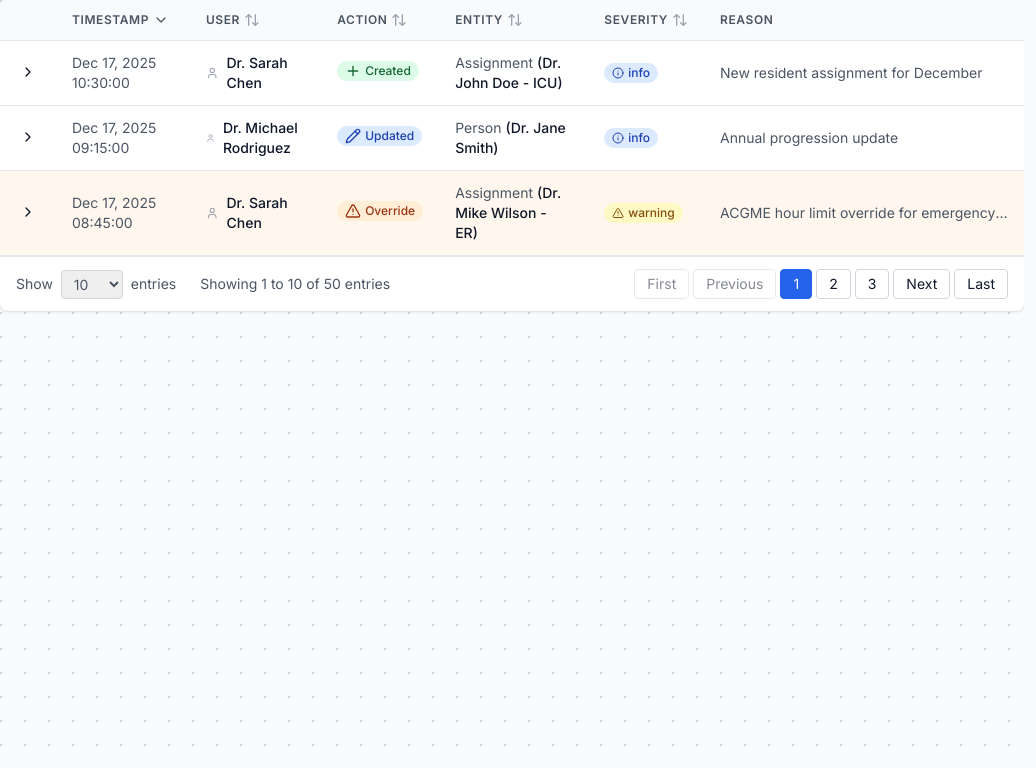
Scenario: AuditLogTable › Expandable Rows › should collapse row when clicking collapse button
// Expand first
What coordinates should you click on to do the following:
click the button named "Expand details" next to "Dec 17, 2025 10:30:00"
I would click on:
 (28, 72)
Its box is top-left (16, 60), bottom-right (40, 84).
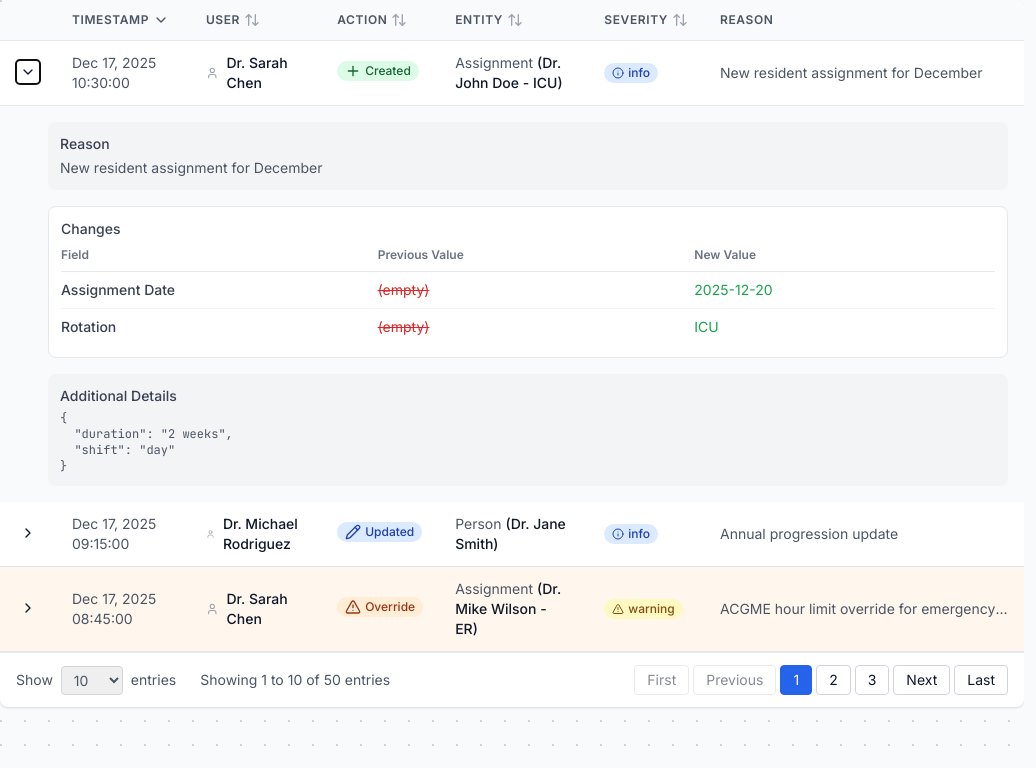
// Now collapse
What coordinates should you click on to do the following:
click the button named "Collapse details"
I would click on:
 (28, 72)
Its box is top-left (16, 60), bottom-right (40, 84).
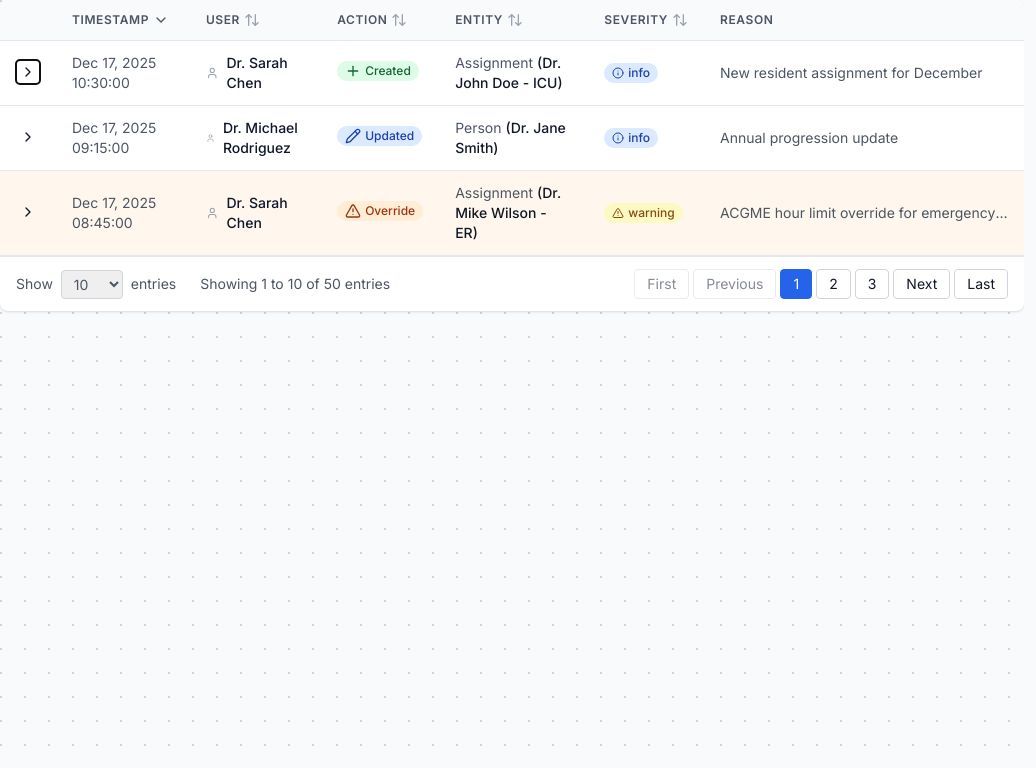
Expected: the text "Changes" is gone
